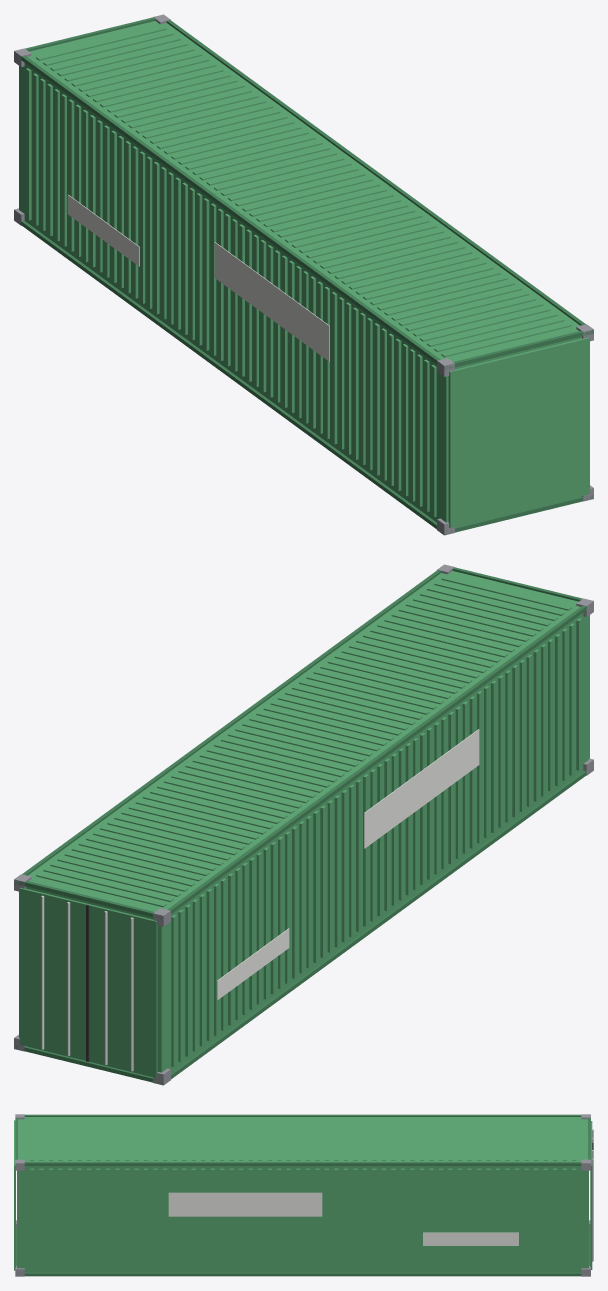
The model's file is container_green.glb.
The picture shows the model from 3 angles, top to bottom: view 1: azimuth 30°, elevation 25°; view 2: azimuth 150°, elevation 25°; view 3: azimuth 270°, elevation 25°; orthographic projection. The views are drawn at different scales.
Visible parts, largest first — view 1: container_green; view 2: container_green; view 3: container_green.
Part boxes in pixels (x1=…): container_green: x1=14, y1=14, x2=593, y2=535; container_green: x1=14, y1=564, x2=593, y2=1085; container_green: x1=14, y1=1114, x2=593, y2=1276.
Size of the model in its own units: 2.41 by 2.61 by 12.09.
